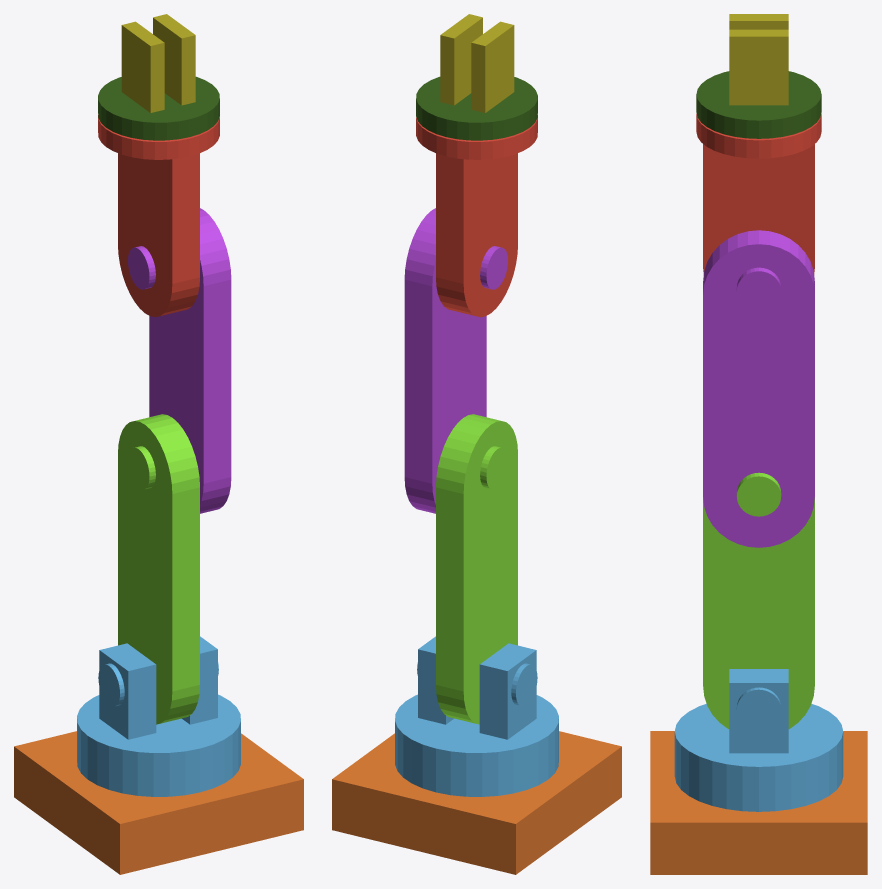
Rendered from SimpleArm_02.fbx.
3 renders of one model, left to right at view 1: azimuth 30°, elevation 25°; view 2: azimuth 150°, elevation 25°; view 3: azimuth 270°, elevation 25°, orthographic. The views are drawn at different scales.
Parts seen in each view (by area): view 1: BaseSquare, UpperArm, BaseRotator, Forearm, Hand, FingerBase, LeftPincher, RightPincher; view 2: BaseSquare, UpperArm, BaseRotator, Forearm, Hand, FingerBase, LeftPincher, RightPincher; view 3: Forearm, BaseSquare, UpperArm, BaseRotator, Hand, FingerBase, RightPincher, LeftPincher.
Part boxes in pixels (<box>): BaseSquare: <box>14,731,303,874</box>; UpperArm: <box>118,414,199,724</box>; BaseRotator: <box>77,636,240,796</box>; Forearm: <box>128,208,231,513</box>; Hand: <box>98,115,219,317</box>; FingerBase: <box>98,76,219,140</box>; LeftPincher: <box>121,21,164,112</box>; RightPincher: <box>153,14,195,105</box>; BaseSquare: <box>332,731,621,874</box>; UpperArm: <box>436,414,517,724</box>; BaseRotator: <box>395,636,558,796</box>; Forearm: <box>404,208,507,513</box>; Hand: <box>416,115,537,317</box>; FingerBase: <box>416,76,537,140</box>; LeftPincher: <box>471,21,514,112</box>; RightPincher: <box>440,14,482,105</box>; Forearm: <box>703,230,814,547</box>; BaseSquare: <box>650,731,867,874</box>; UpperArm: <box>703,472,814,728</box>; BaseRotator: <box>674,669,843,811</box>; Hand: <box>696,114,821,274</box>; FingerBase: <box>696,71,821,138</box>; RightPincher: <box>729,29,788,105</box>; LeftPincher: <box>729,14,788,29</box>.
Bounding box in the file's own units: 735 × 2995 × 735.
